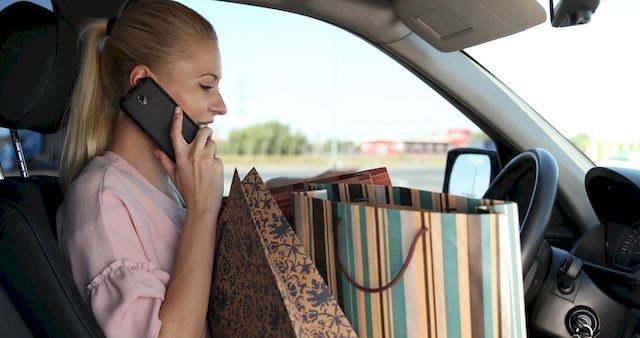phone: (128, 78, 195, 152)
talk: (124, 60, 232, 212)
